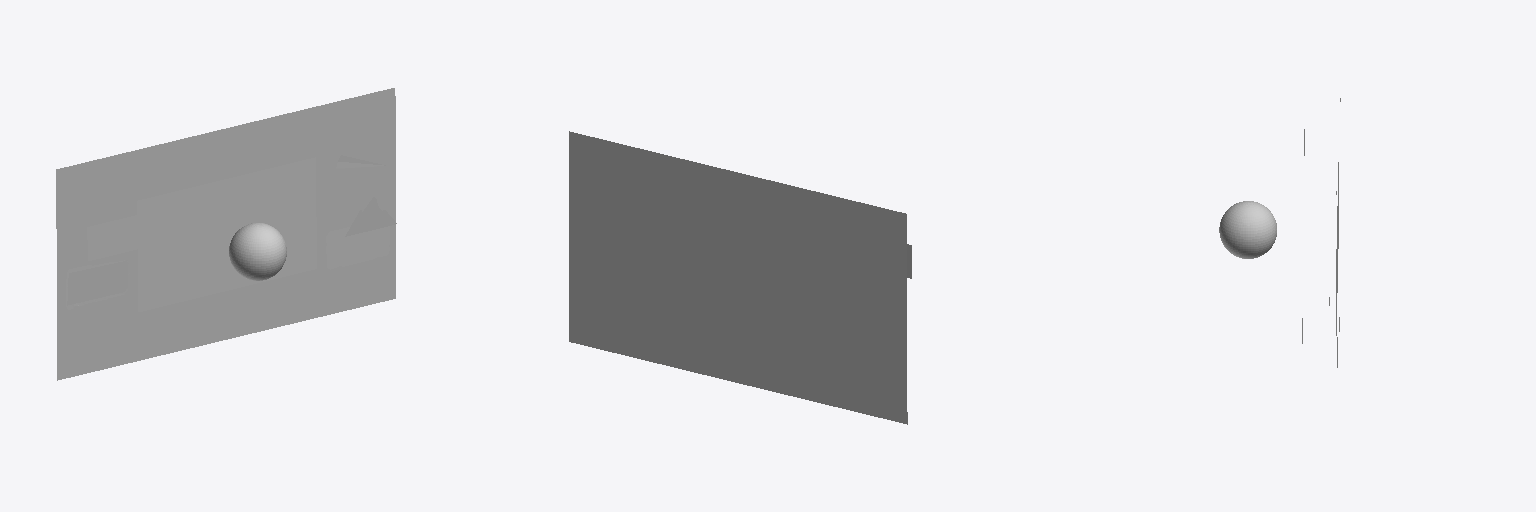
Rendered from hologram.obj.
3 renders of one model, left to right at view 1: azimuth 30°, elevation 25°; view 2: azimuth 150°, elevation 25°; view 3: azimuth 270°, elevation 25°, orthographic.
Visible parts, largest first — view 1: Plane.002, blind_Plane.005, Sphere, Plane.004, Plane.001, Plane.003, earth, Plane.005_Plane.006; view 2: Plane.002; view 3: Sphere.
Part boxes in pixels (x1,y1,x2,y2): Plane.002: (56,88,395,380); blind_Plane.005: (137,157,316,311); Sphere: (229,223,286,280); Plane.004: (336,139,388,189); Plane.001: (326,226,389,269); Plane.003: (87,213,143,260); earth: (67,261,127,305); Plane.005_Plane.006: (345,197,396,236); Plane.002: (569,131,907,424); Sphere: (1219,201,1276,258).
Bounding box in the file's own units: 13.33 × 7.94 × 4.13.